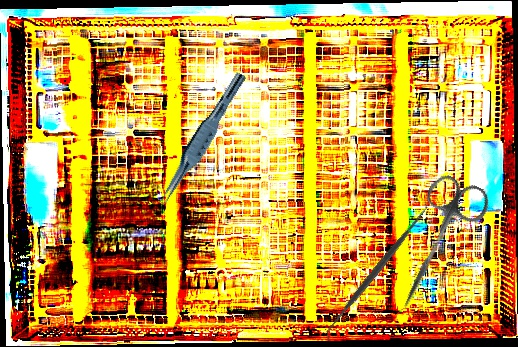Iris Scissors: (379, 168, 495, 322)
Spatula Surgical: (316, 199, 437, 343)
Tissue Forceps: (155, 67, 248, 210)
